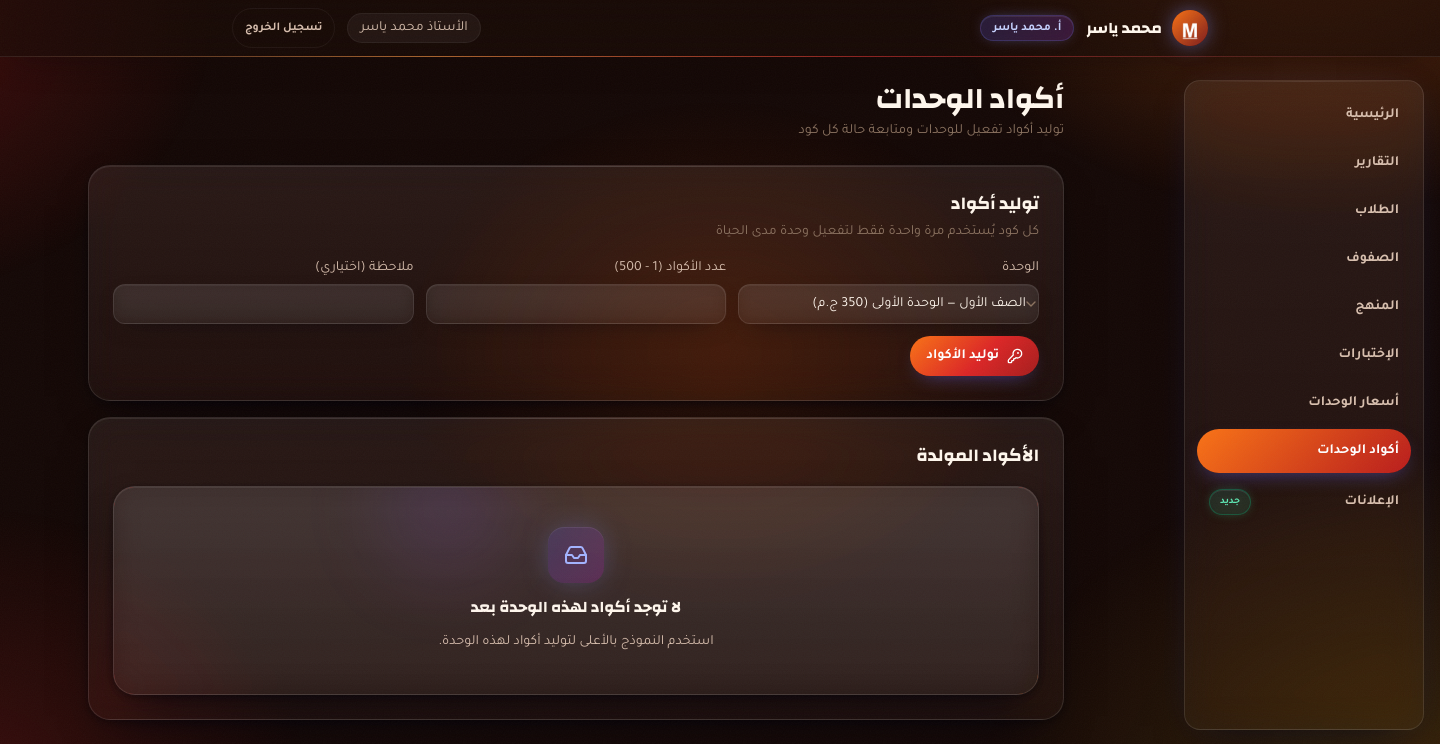
Test case: CodesPage › generates codes for the selected unit via the RPC
Type "2" into the number field labelled "عدد الأكواد (1 - 500)" at (576, 304), box [426,284,726,324]
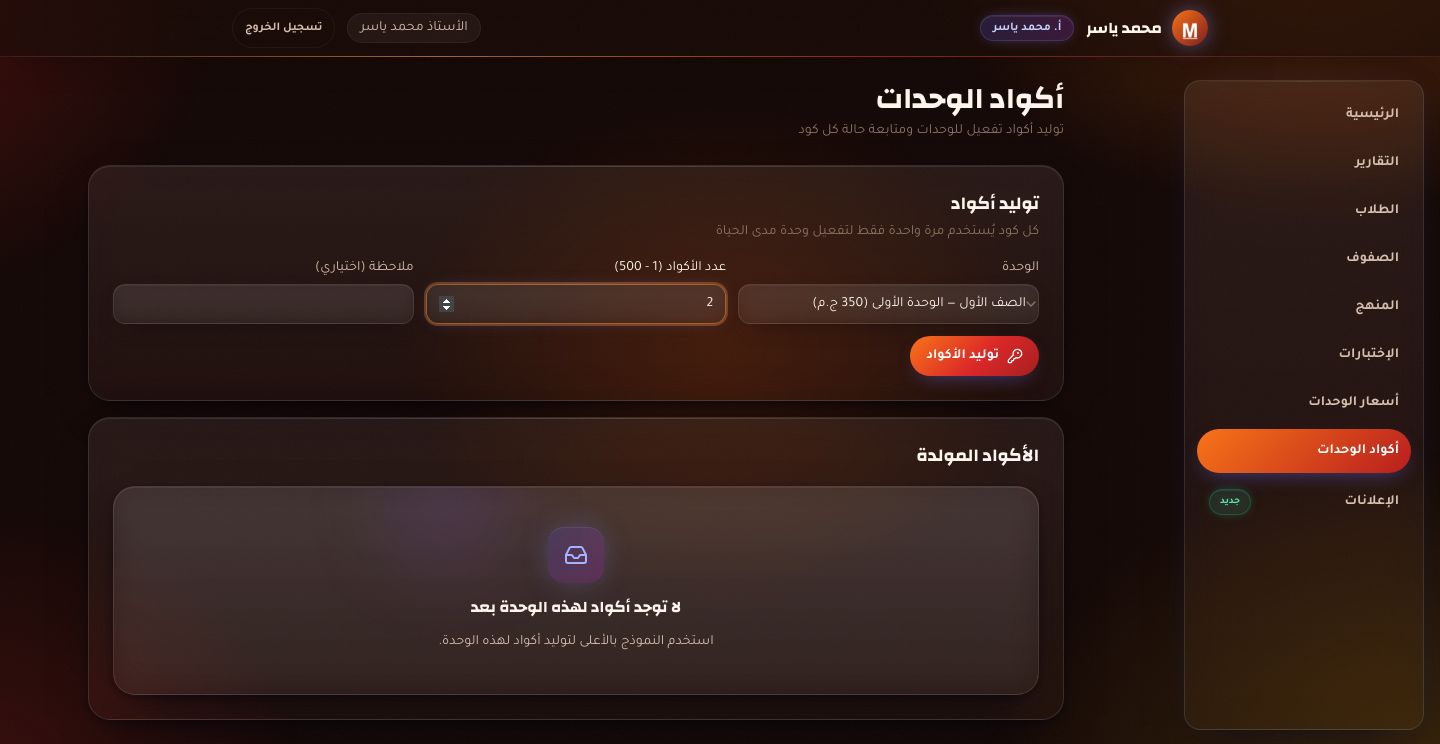
Click the button "توليد الأكواد" at (975, 356), box [910,336,1039,376]
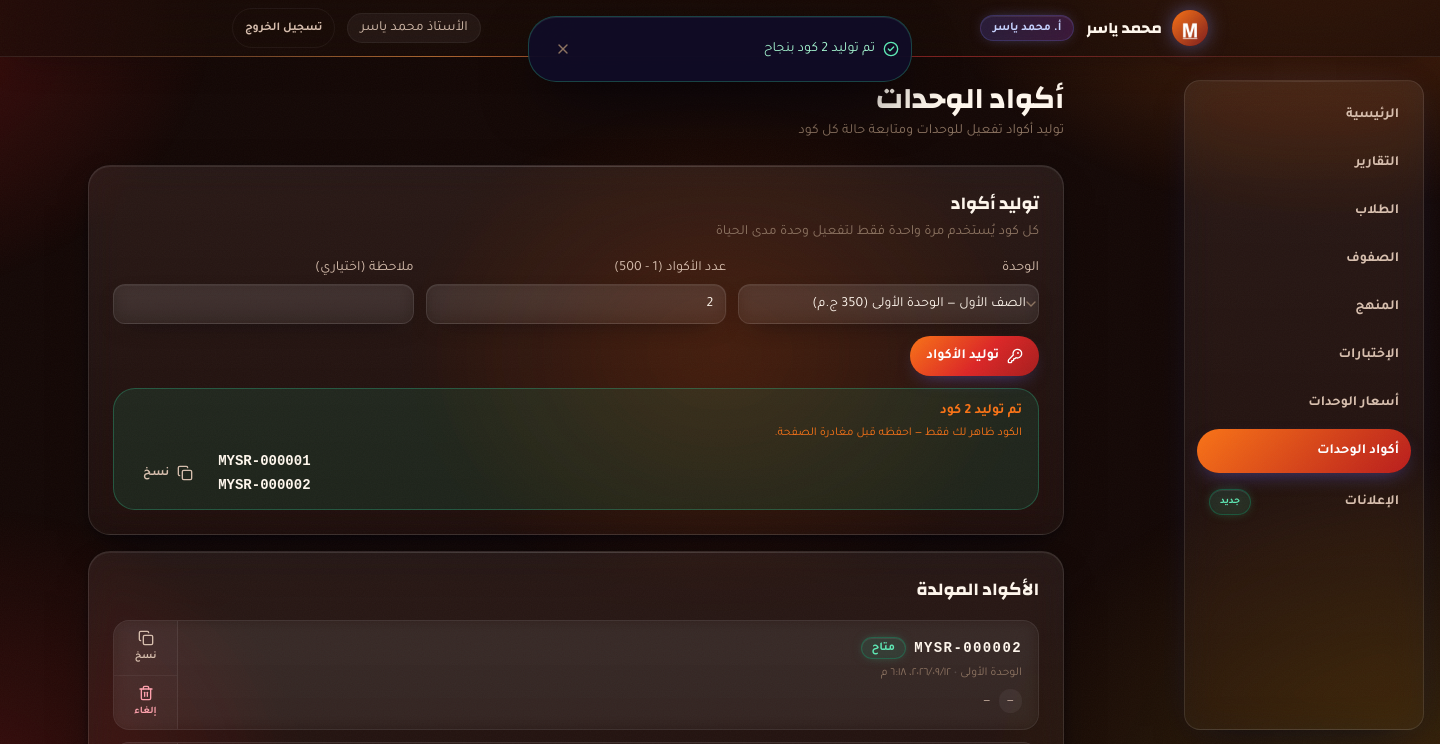
Expected: the text "تم توليد 2 كود بنجاح" is shown, [764,42,875,56]
